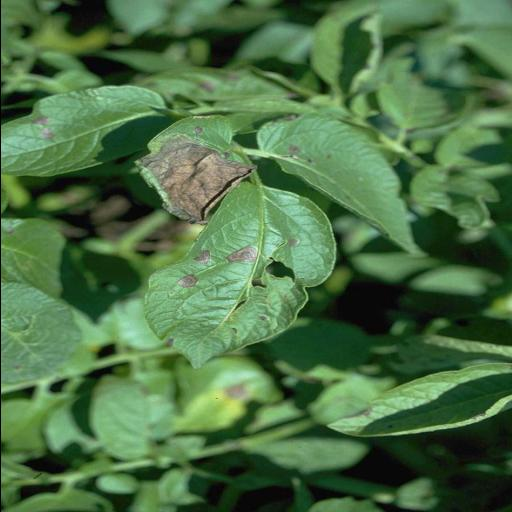Late Blight: (136, 180, 340, 370), (122, 115, 262, 225)
